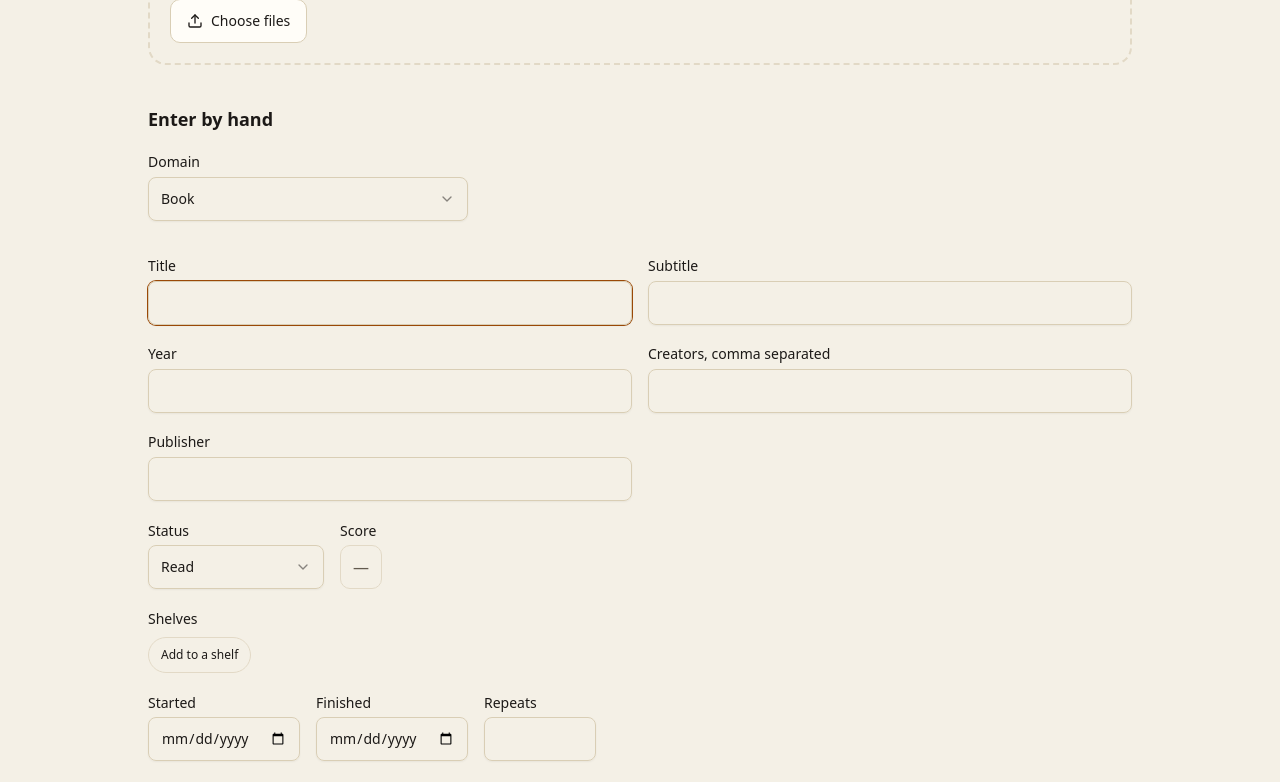
Test: AddPage › refuses an empty title and keeps everything else typed
(page scrolled)
Type "Julio Cortázar" into the field labelled "Creators, comma separated" at [890, 391], box [648,369,1132,413]
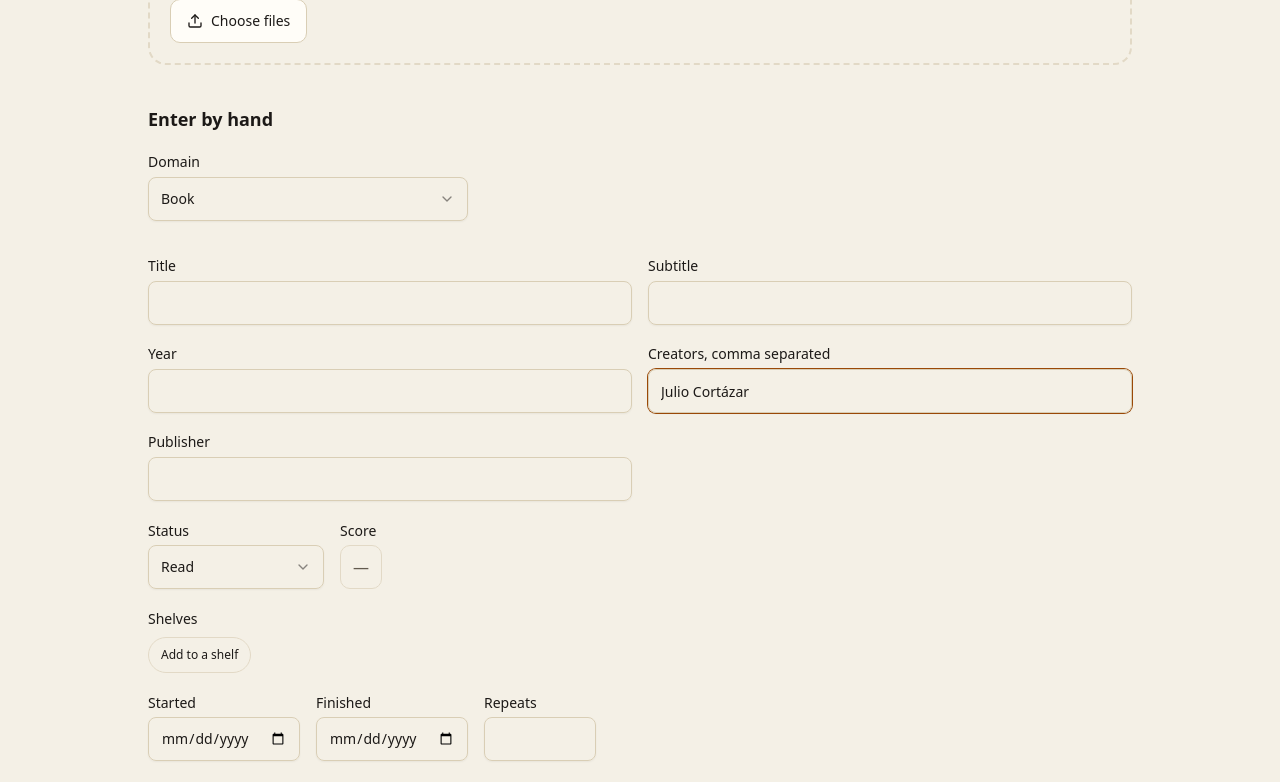
Type "1963" into the number field labelled "Year" at [390, 391], box [148,369,632,413]
(page scrolled)
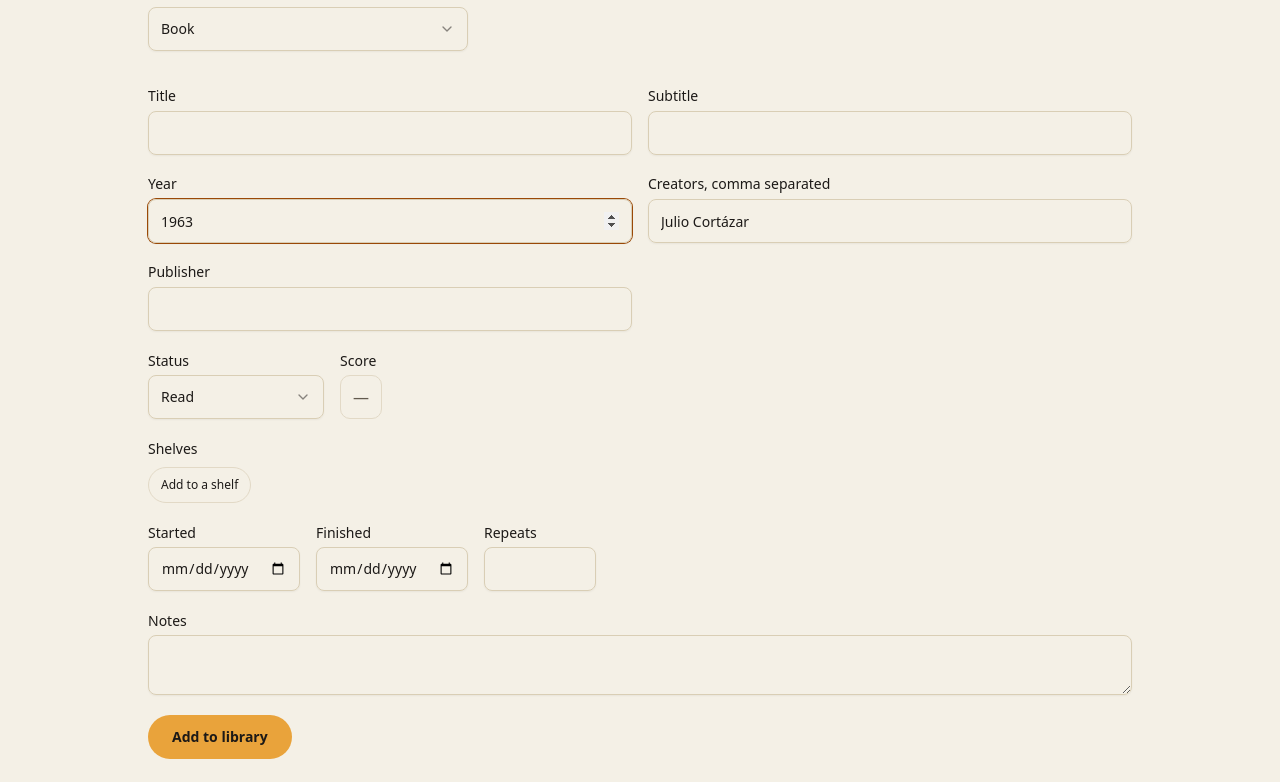
Click the button "Add to library" at [220, 737], box [148,715,292,759]
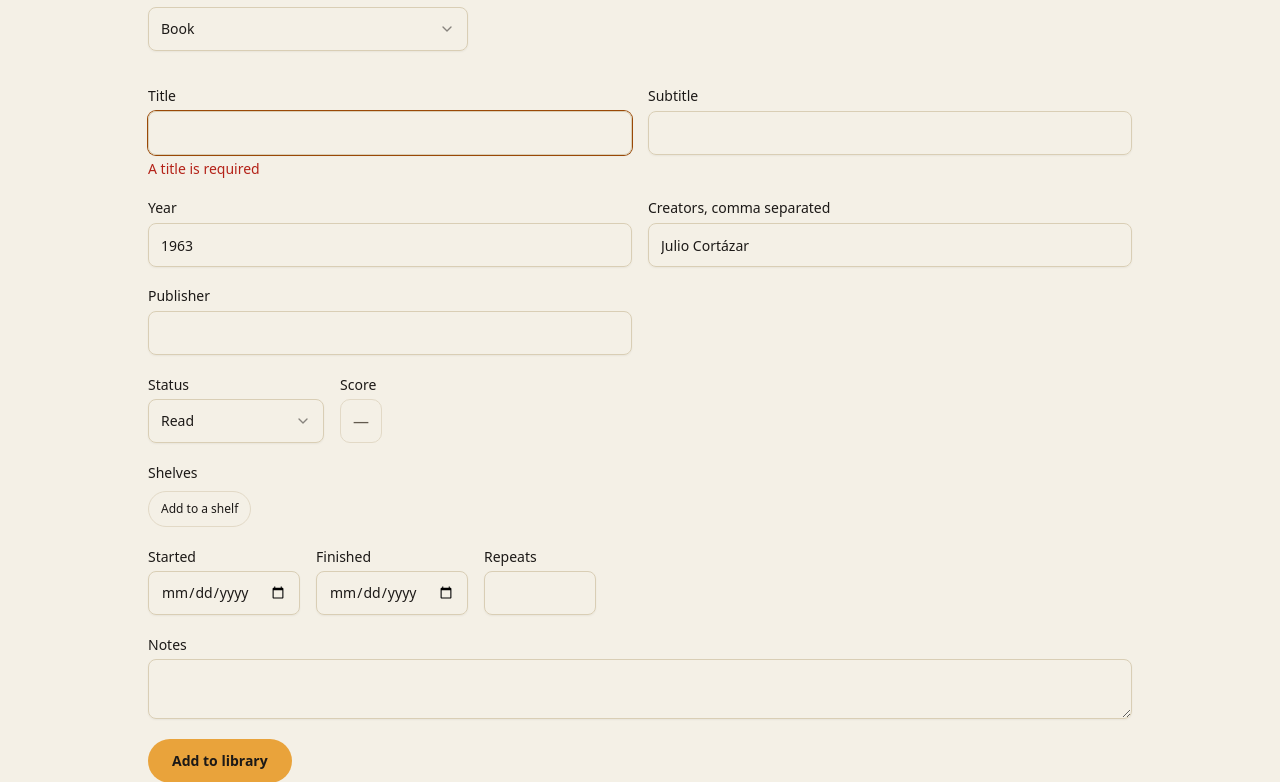
Result: the message shows "title is required" at [148,159,260,178]
